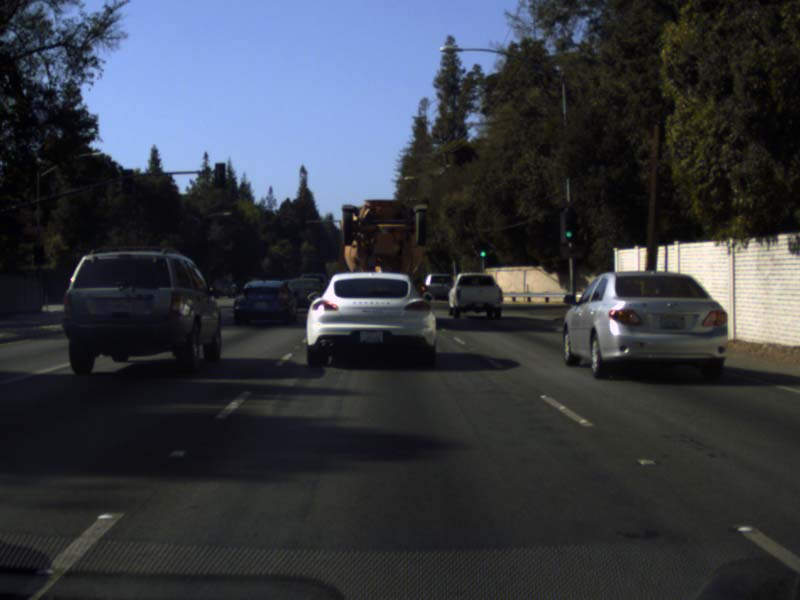Green: (564, 209, 575, 243), (477, 239, 488, 258)
